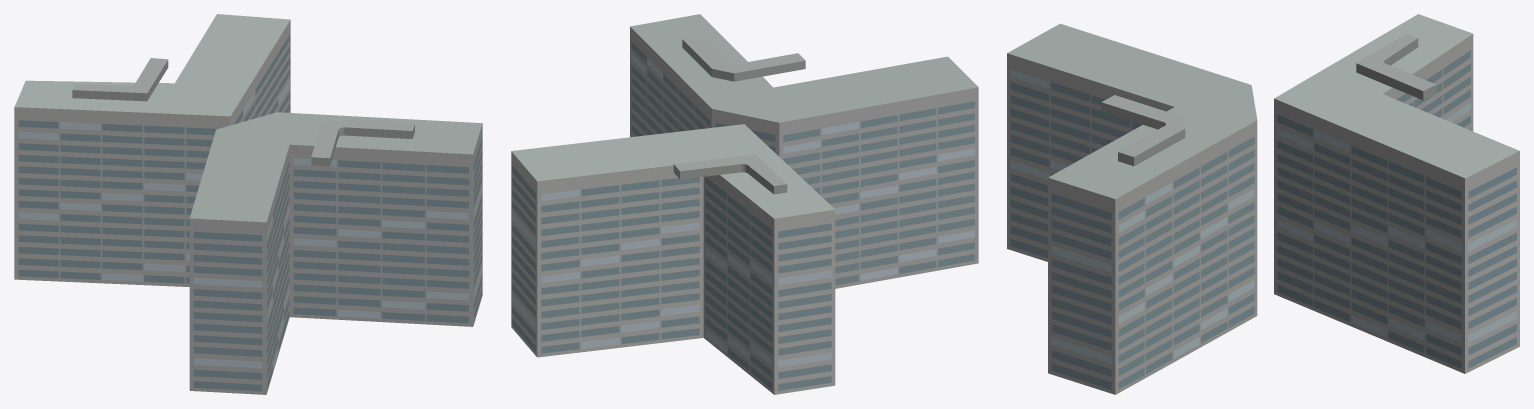
Rendered from apt-a15086001.glb.
3 views of the same model, side by side, from view 1: azimuth 30°, elevation 25°; view 2: azimuth 150°, elevation 25°; view 3: azimuth 270°, elevation 25° (orthographic). The views are drawn at different scales.
Parts seen in each view (by area): view 1: apt-a15086001; view 2: apt-a15086001; view 3: apt-a15086001.
Boxes of the visible parts, <box> form: apt-a15086001: <box>14,14,482,394</box>; apt-a15086001: <box>511,14,978,394</box>; apt-a15086001: <box>1007,14,1519,394</box>.
Size of the model in its own units: 77.55 by 40 by 90.73.
